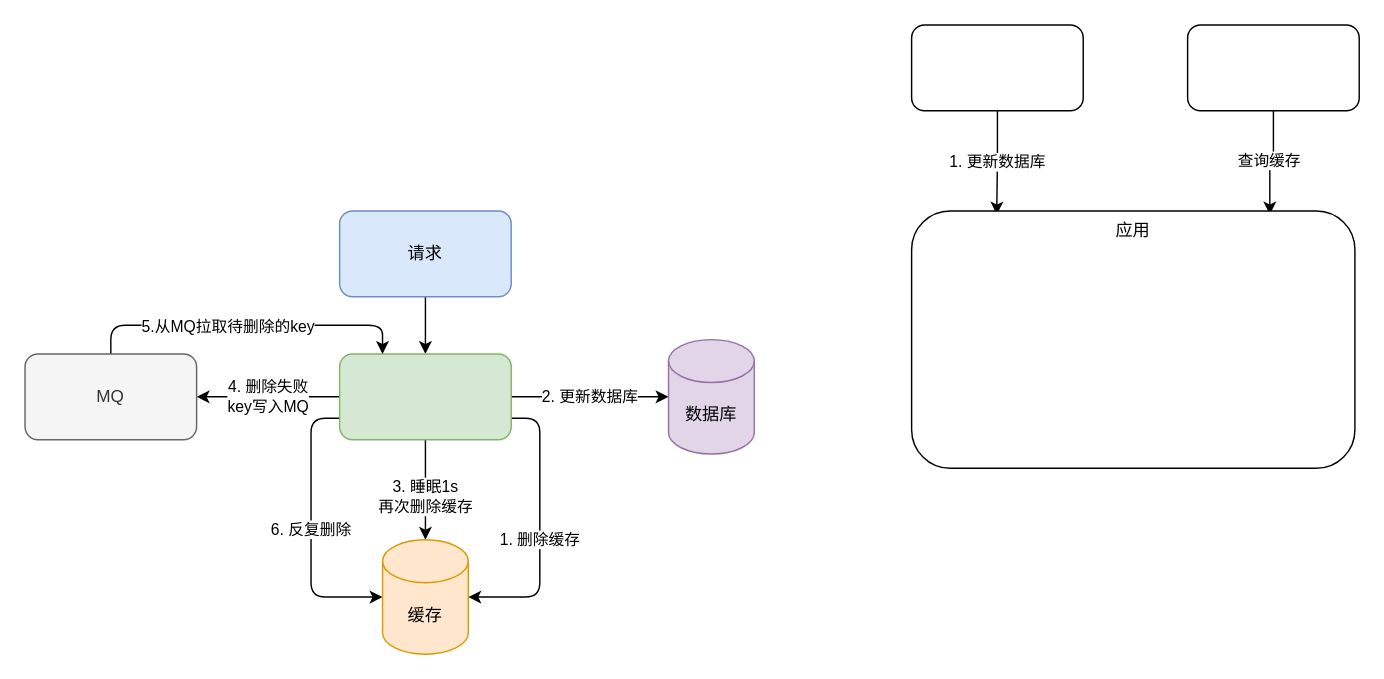
The diagram is 1384 pixels wide and 679 high, and some of its shapes have lost their labels. The shapes that lost their labels are listed below. From the top down, each one's centre as x and y in pixels, then its label:
At point 996,67: "写请求".
At point 1272,67: "读请求".
At point 424,396: "应用程序".
